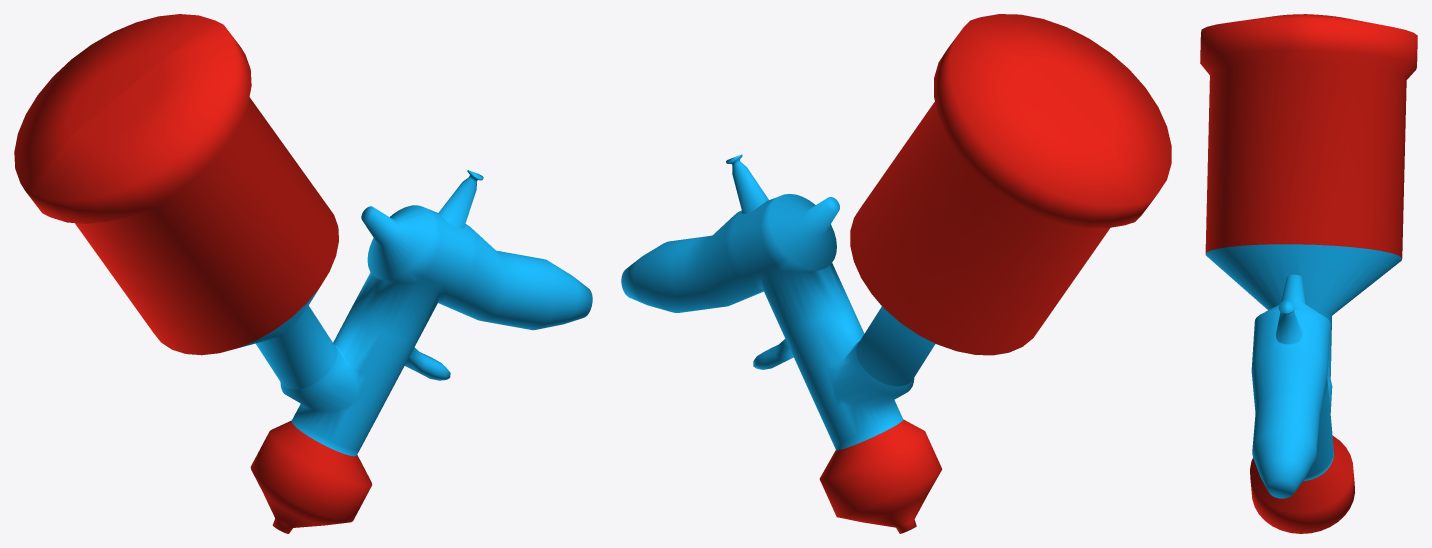
The model's file is Spray Gun.fbx.
The picture shows the model from 3 angles, left to right: view 1: azimuth 30°, elevation 25°; view 2: azimuth 150°, elevation 25°; view 3: azimuth 270°, elevation 25°; orthographic projection. The views are drawn at different scales.
Parts seen in each view (by area): view 1: Gun R; view 2: Gun R; view 3: Gun R.
Part boxes in pixels (x1=…): Gun R: x1=14, y1=14, x2=592, y2=533; Gun R: x1=621, y1=14, x2=1171, y2=533; Gun R: x1=1200, y1=14, x2=1417, y2=533.
Size of the model in its own units: 427 by 394 by 166.
